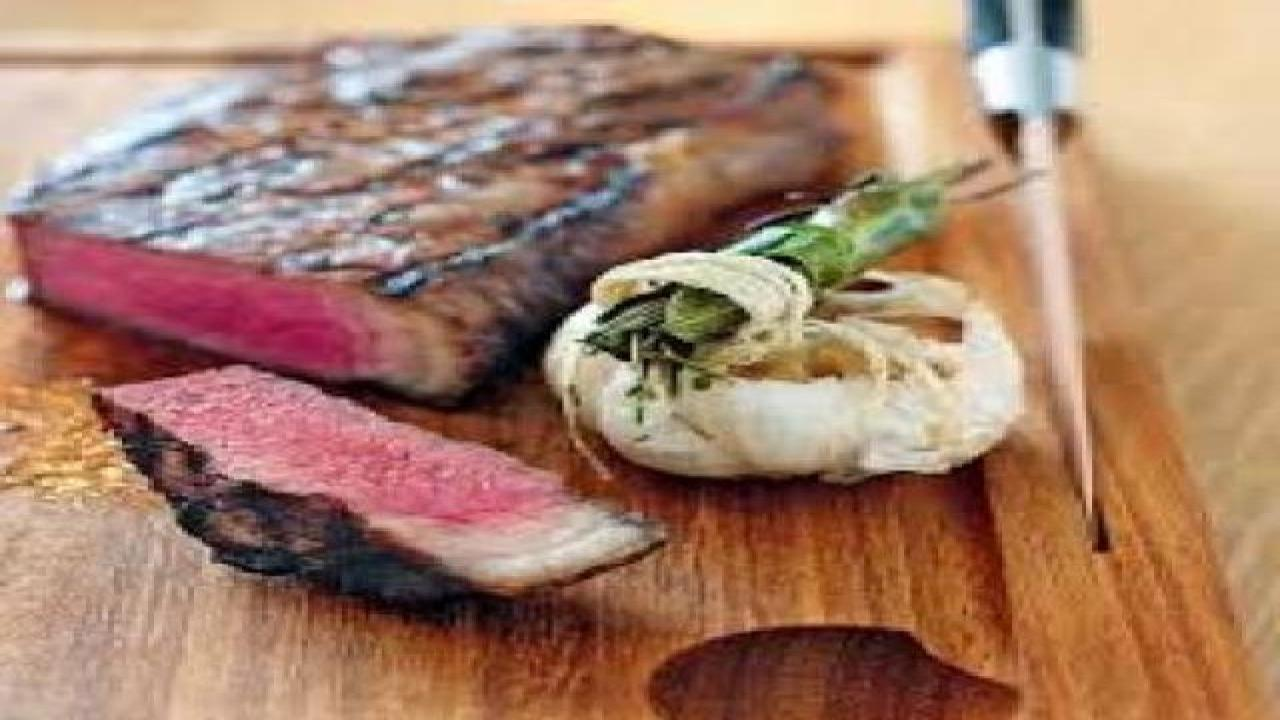Carne: (57, 381, 656, 615), (0, 209, 560, 380)
